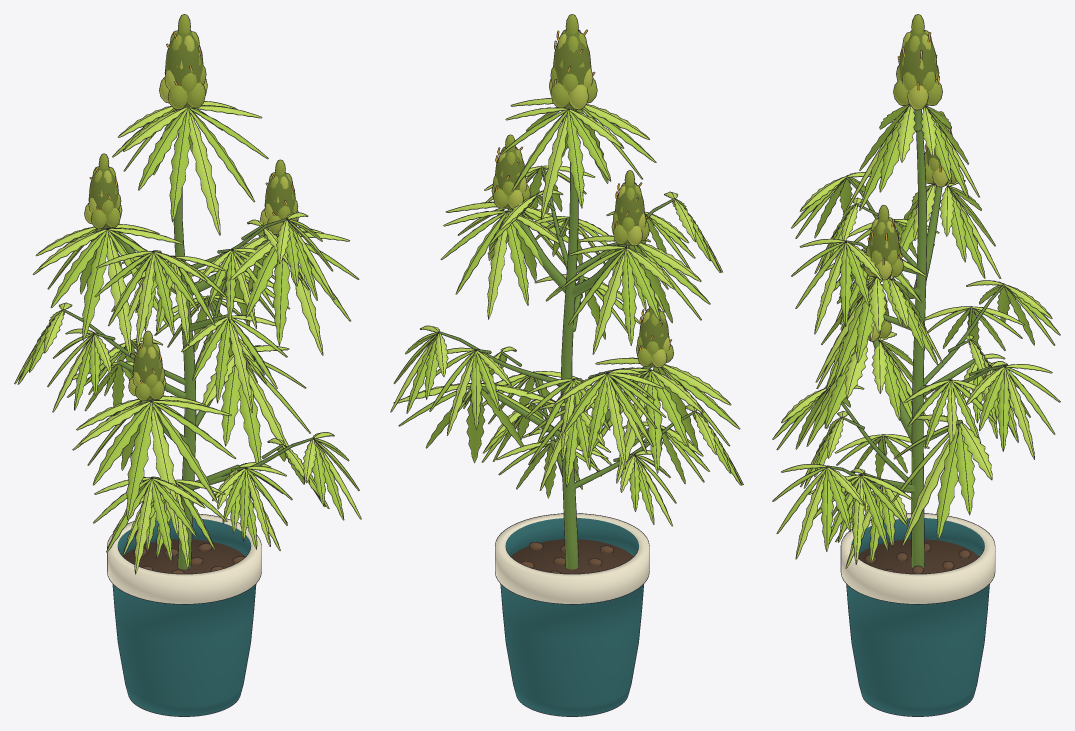
Rendered from cannabis_elancee_toon.glb.
3 views of the same model, side by side, from view 1: azimuth 30°, elevation 25°; view 2: azimuth 150°, elevation 25°; view 3: azimuth 270°, elevation 25° (orthographic).
Parts seen in each view (by area): view 1: cannabis_elancee_Geometry; view 2: cannabis_elancee_Geometry; view 3: cannabis_elancee_Geometry.
Part boxes in pixels (x1,y1,x2,y2): cannabis_elancee_Geometry: (14, 14, 361, 716); cannabis_elancee_Geometry: (390, 14, 743, 716); cannabis_elancee_Geometry: (772, 14, 1060, 716).
Bounding box in the file's own units: 0.5798 × 1.32 × 0.5072.
